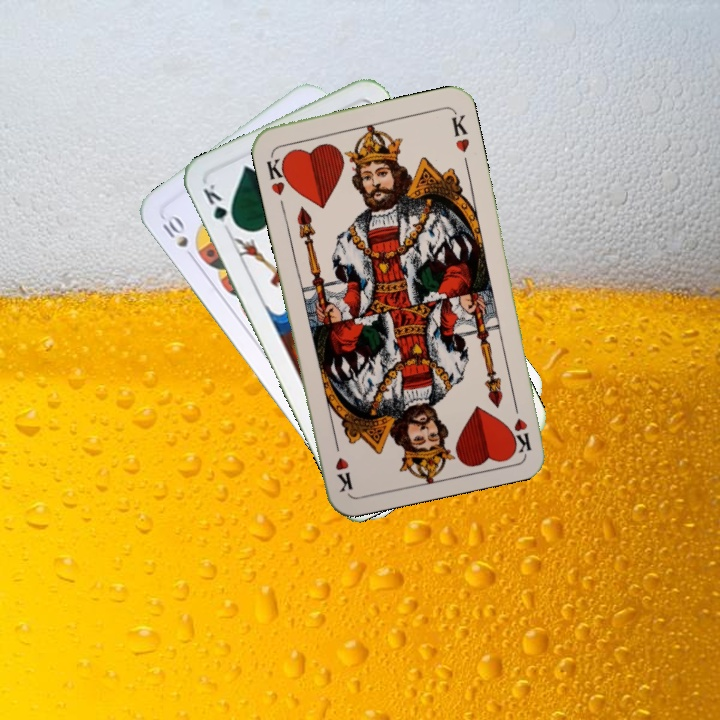GK: (199, 179, 240, 230)
HK: (508, 394, 534, 454), (262, 150, 294, 198)
S10: (156, 211, 198, 264)
